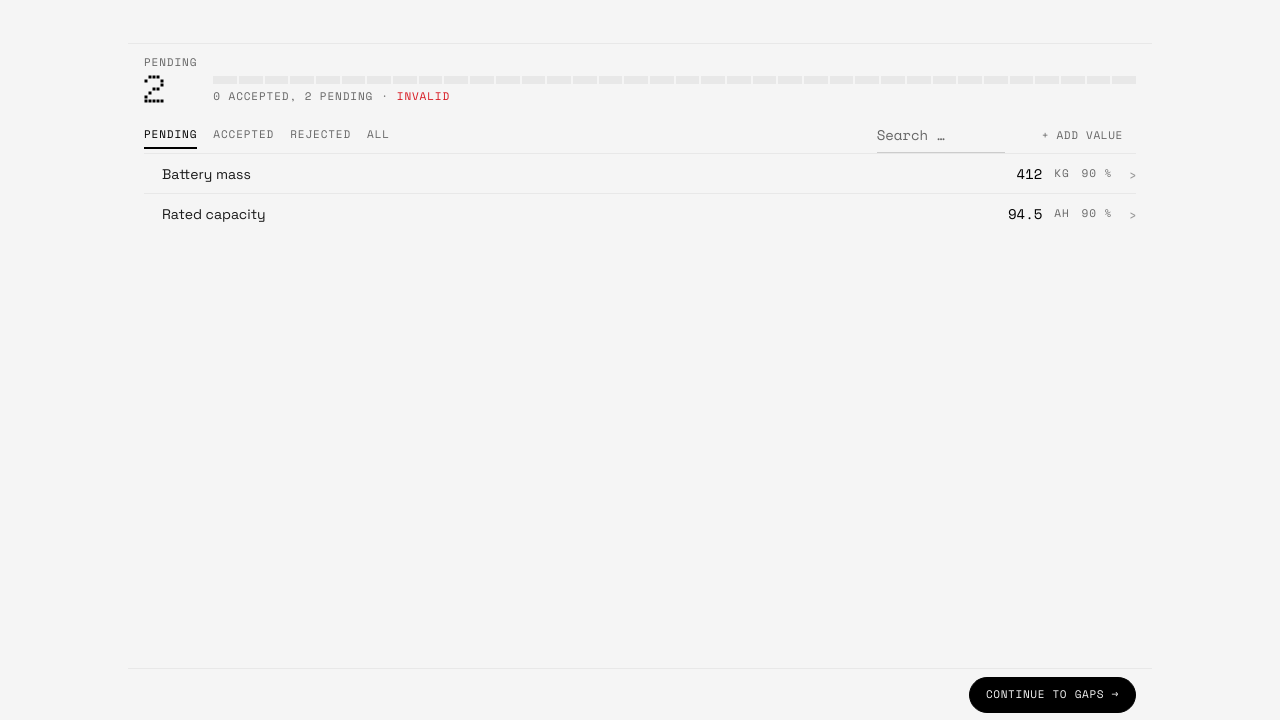
ReviewView › walks the pending queue with next and keeps the list
Click the button with test id "group" at (206, 174), box [144,153,1136,193]
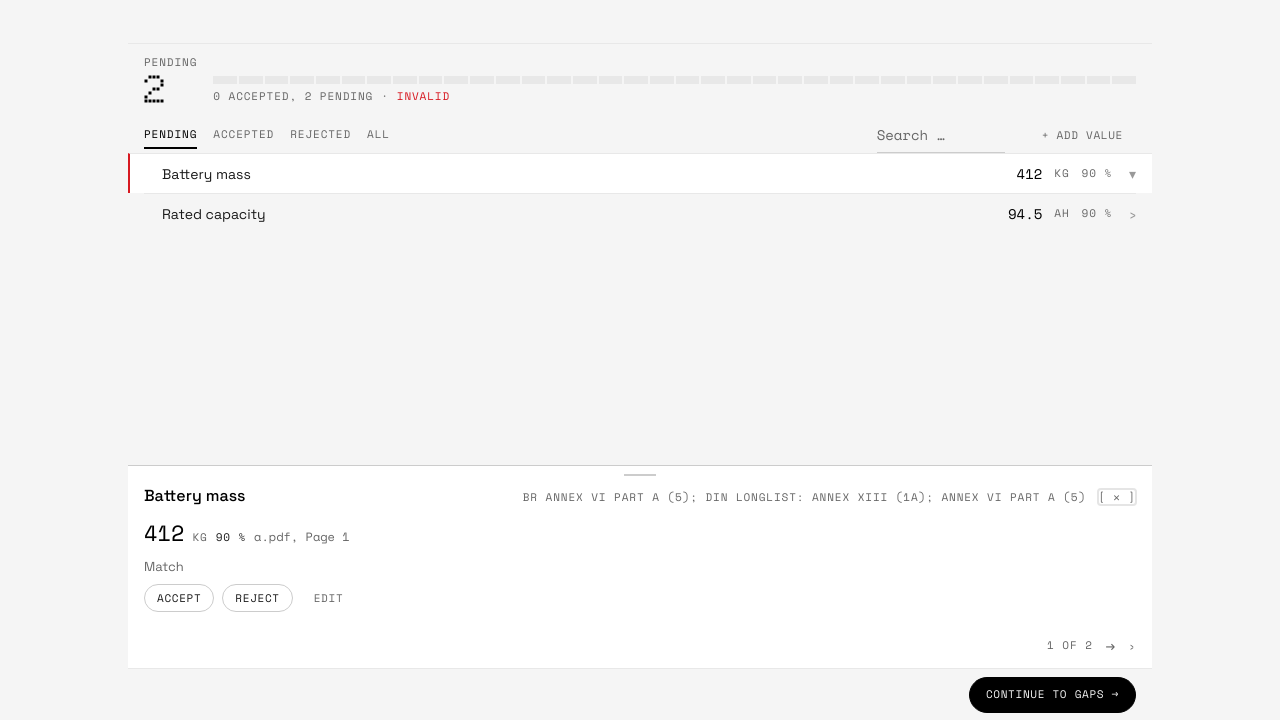
Check: the dialog with test id "review-sheet" shows "1 of 2", box [1047,637,1093,653]
Press ArrowRight in the dialog with test id "review-sheet", box [128,464,1152,668]
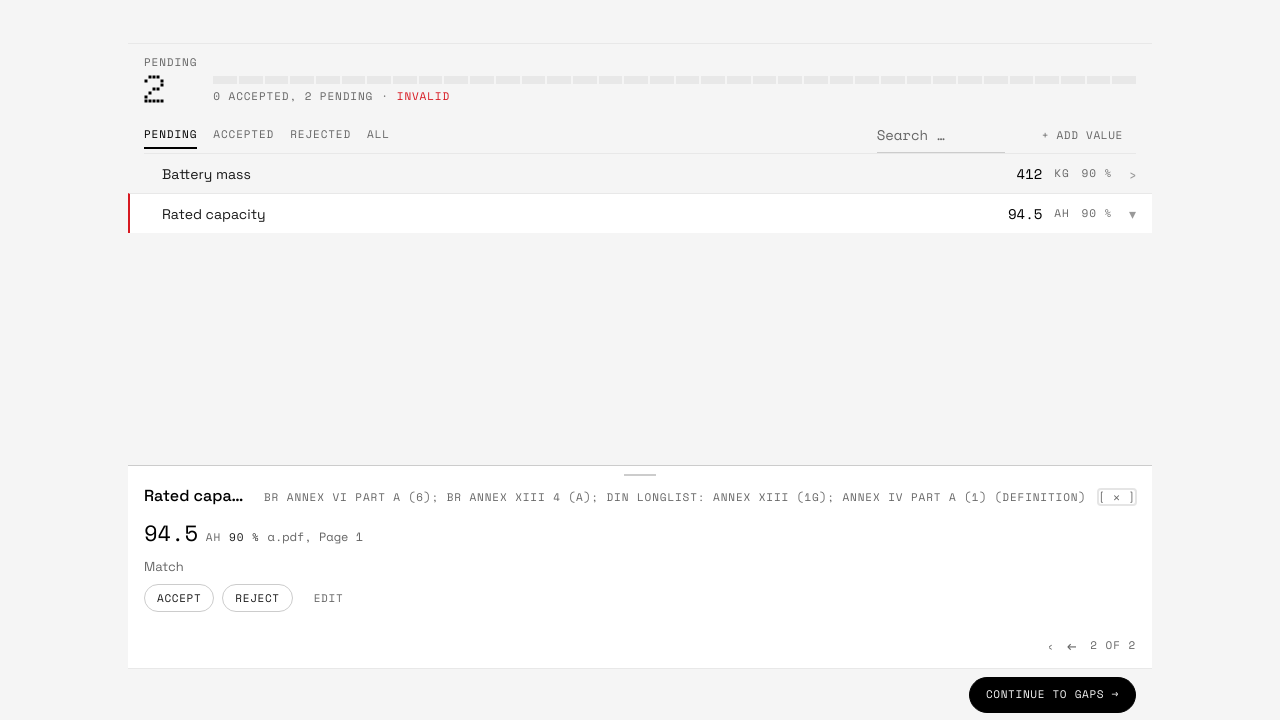
Check: the number of buttons with test id "group" is 2, box [144,153,1136,193]; [128,193,1152,233]
Check: the dialog with test id "review-sheet" shows "2 of 2", box [1090,637,1136,653]
